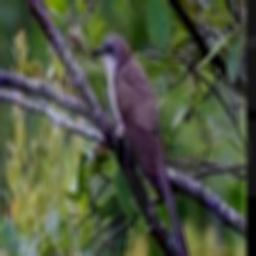Cuckoo: (92, 34, 192, 256)
